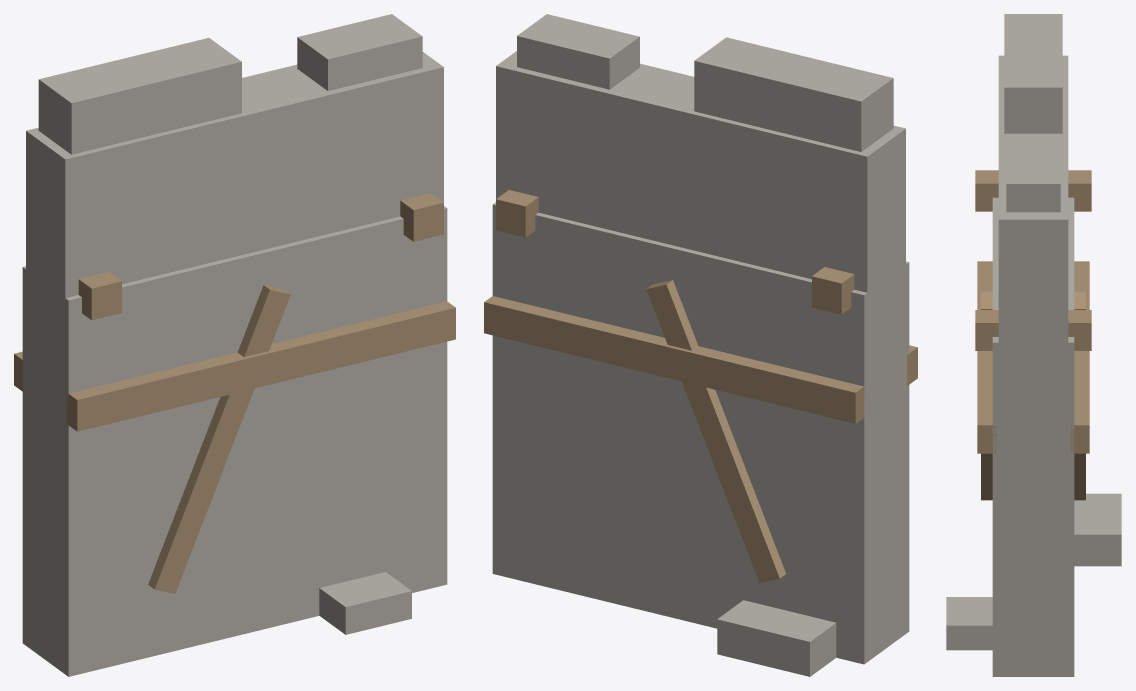
File: wall.glb
The picture shows the model from 3 angles, left to right: view 1: azimuth 30°, elevation 25°; view 2: azimuth 150°, elevation 25°; view 3: azimuth 270°, elevation 25°; orthographic projection. The views are drawn at different scales.
Visible parts, largest first — view 1: wall; view 2: wall; view 3: wall.
Part boxes in pixels (<box>): wall: <box>14,14,455,676</box>; wall: <box>484,14,917,676</box>; wall: <box>946,14,1121,676</box>.
Bounding box in the file's own units: 2 × 2.86 × 0.905.
